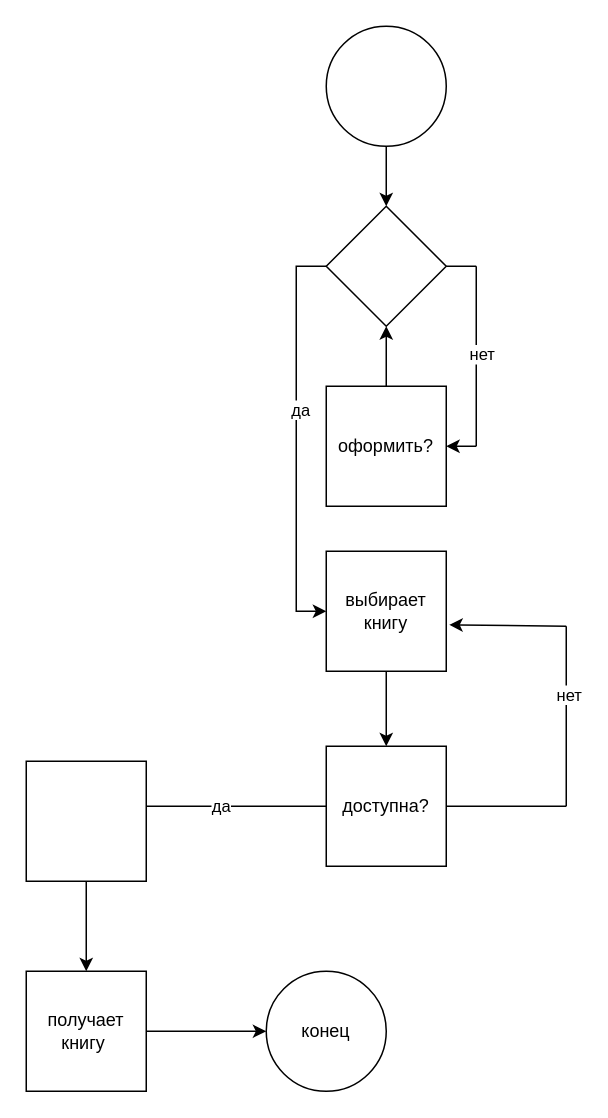
This 608x1118 diagram has some shape labels left out. Each missing label, with the box of its shape:
Есть Билет?: (325, 205, 446, 326)
регестрация: (25, 760, 146, 881)
